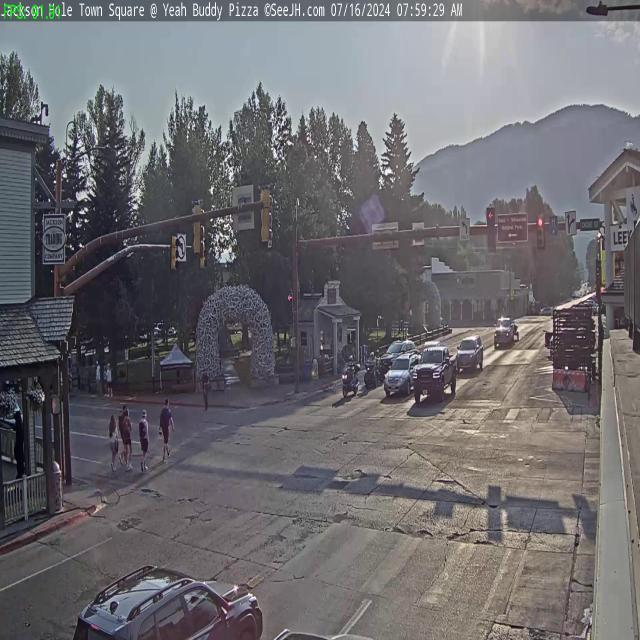motorcycle: (341, 366, 360, 400), (363, 361, 377, 389)
person: (159, 398, 171, 456), (119, 404, 130, 465), (139, 409, 149, 466), (109, 412, 118, 472), (201, 370, 208, 412), (95, 360, 102, 398), (104, 365, 111, 401)
pickup: (412, 345, 459, 403), (493, 316, 517, 347)
suv: (68, 560, 267, 639), (383, 352, 417, 395), (456, 334, 484, 372)
traffic light: (260, 184, 272, 245), (191, 198, 203, 256), (486, 207, 497, 252), (171, 234, 179, 273), (536, 215, 545, 248)
